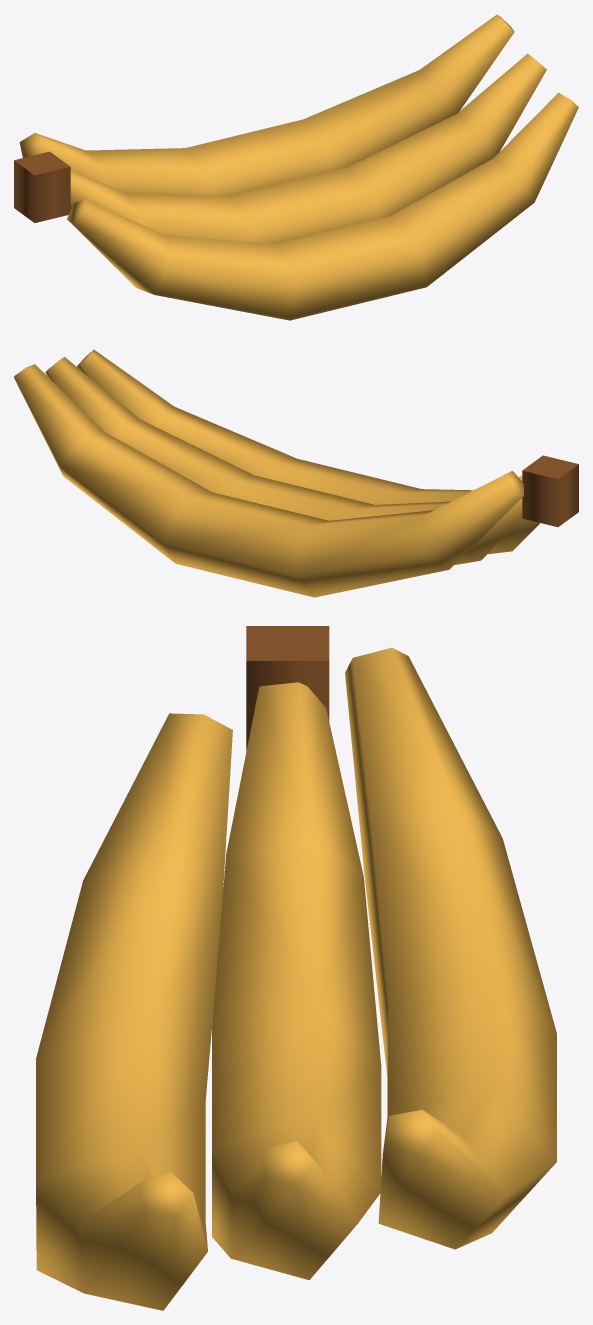
File: CM_Product_BananaBunch.fbx
3 renders of one model, top to bottom at view 1: azimuth 30°, elevation 25°; view 2: azimuth 150°, elevation 25°; view 3: azimuth 270°, elevation 25°, orthographic. The views are drawn at different scales.
Parts seen in each view (by area): view 1: BananaBunch; view 2: BananaBunch; view 3: BananaBunch.
Part boxes in pixels (box(x1,y1,x2,y2)): BananaBunch: box(14, 14, 578, 320); BananaBunch: box(14, 349, 578, 597); BananaBunch: box(36, 626, 556, 1310).
Bounding box in the file's own units: 2.05 × 0.8898 × 0.6644.
1 material, 1 textured.
